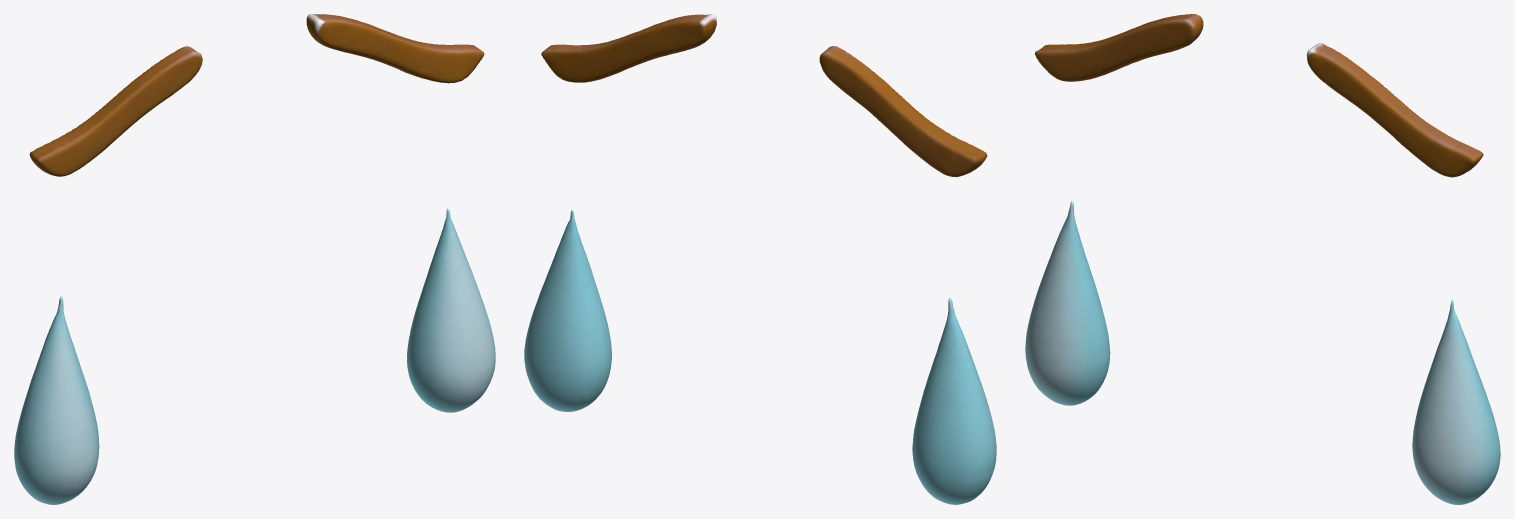
Rendered from big_tears_3.glb.
The picture shows the model from 3 angles, left to right: view 1: azimuth 30°, elevation 25°; view 2: azimuth 150°, elevation 25°; view 3: azimuth 330°, elevation 25°; orthographic projection.
Visible parts, largest first — view 1: lagrange_node; view 2: lagrange_node; view 3: lagrange_node.
Boxes of the visible parts, box(x1,y1,x2,y2) form: lagrange_node: box(14, 14, 495, 504); lagrange_node: box(524, 14, 996, 504); lagrange_node: box(1025, 14, 1500, 504).
Size of the model in its own units: 1.75 by 1.53 by 0.2565.
1 material, 1 textured.
